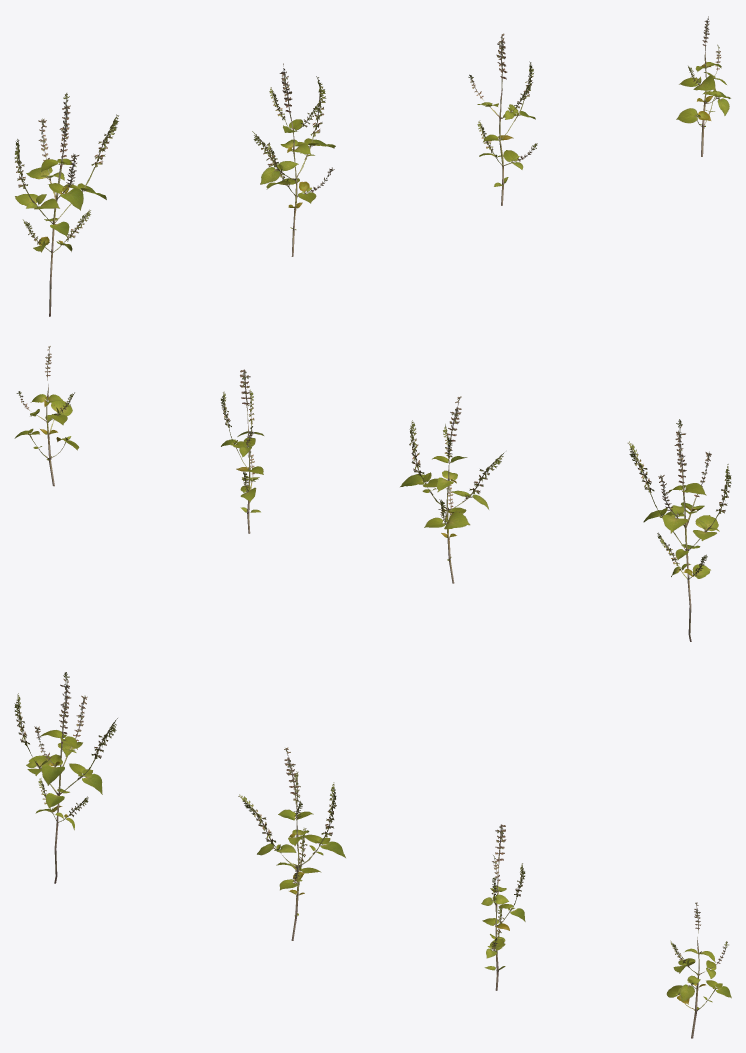
Rendered from shrub_03.glb.
3 renders of one model, top to bottom at view 1: azimuth 30°, elevation 25°; view 2: azimuth 150°, elevation 25°; view 3: azimuth 330°, elevation 25°, orthographic. The views are drawn at different scales.
Visible parts, largest first — view 1: shrub_03_a, shrub_03_b, shrub_03_c, shrub_03_d; view 2: shrub_03_a, shrub_03_b, shrub_03_c, shrub_03_d; view 3: shrub_03_a, shrub_03_b, shrub_03_c, shrub_03_d.
Part boxes in pixels (left/top/right/bottom): shrub_03_a: left=14, top=93, right=118, bottom=316; shrub_03_b: left=252, top=63, right=335, bottom=256; shrub_03_c: left=468, top=33, right=537, bottom=205; shrub_03_d: left=676, top=16, right=730, bottom=156; shrub_03_a: left=627, top=419, right=731, bottom=641; shrub_03_b: left=400, top=396, right=504, bottom=583; shrub_03_c: left=221, top=369, right=263, bottom=533; shrub_03_d: left=14, top=346, right=79, bottom=486; shrub_03_a: left=14, top=672, right=117, bottom=883; shrub_03_b: left=238, top=747, right=345, bottom=940; shrub_03_c: left=481, top=824, right=525, bottom=990; shrub_03_d: left=666, top=902, right=731, bottom=1038.
Size of the model in its own units: 1.37 by 0.4028 by 0.1512.
1 material, 1 textured.
